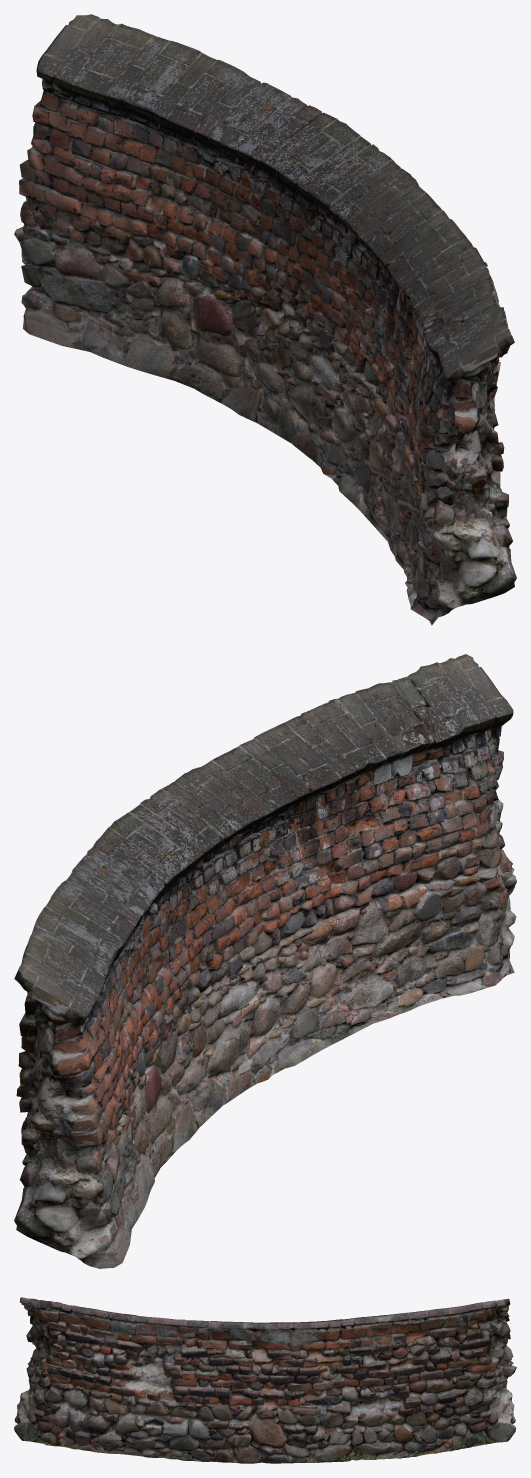
File: sm_Wall_01_06.fbx
3 renders of one model, top to bottom at view 1: azimuth 30°, elevation 25°; view 2: azimuth 150°, elevation 25°; view 3: azimuth 270°, elevation 25°, orthographic. The views are drawn at different scales.
Parts seen in each view (by area): view 1: sm_Wall_01_06_LOD0; view 2: sm_Wall_01_06_LOD0; view 3: sm_Wall_01_06_LOD0.
Part boxes in pixels (x1,y1,x2,y2): sm_Wall_01_06_LOD0: [14, 14, 516, 625]; sm_Wall_01_06_LOD0: [14, 654, 516, 1268]; sm_Wall_01_06_LOD0: [14, 1297, 516, 1463].
Size of the model in its own units: 125 by 580 by 207.
